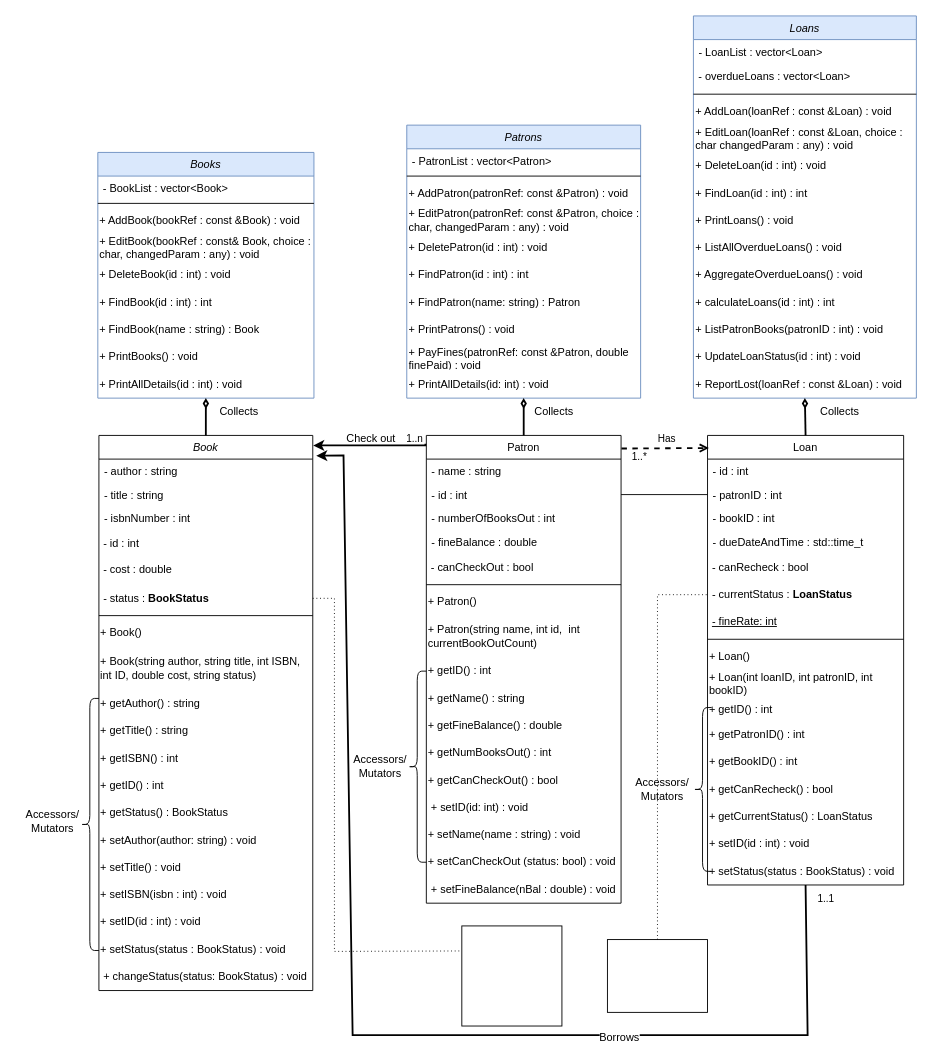
Some shapes in this 932 by 1059 pixel diagram are drawn without their labels. Here are the shapes that lost their labels. From the top down, the box of each, then its label:
(461, 925, 562, 1026): <<enumeration>> BookStatus IN OUT REPAIR LOST
(607, 939, 708, 1012): <<enumeration>> LoanStatus NORMAL OVERDUE
